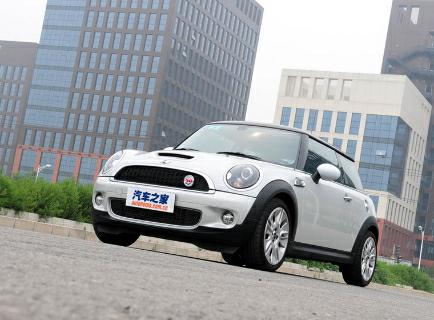MINI: (92, 122, 389, 274)
